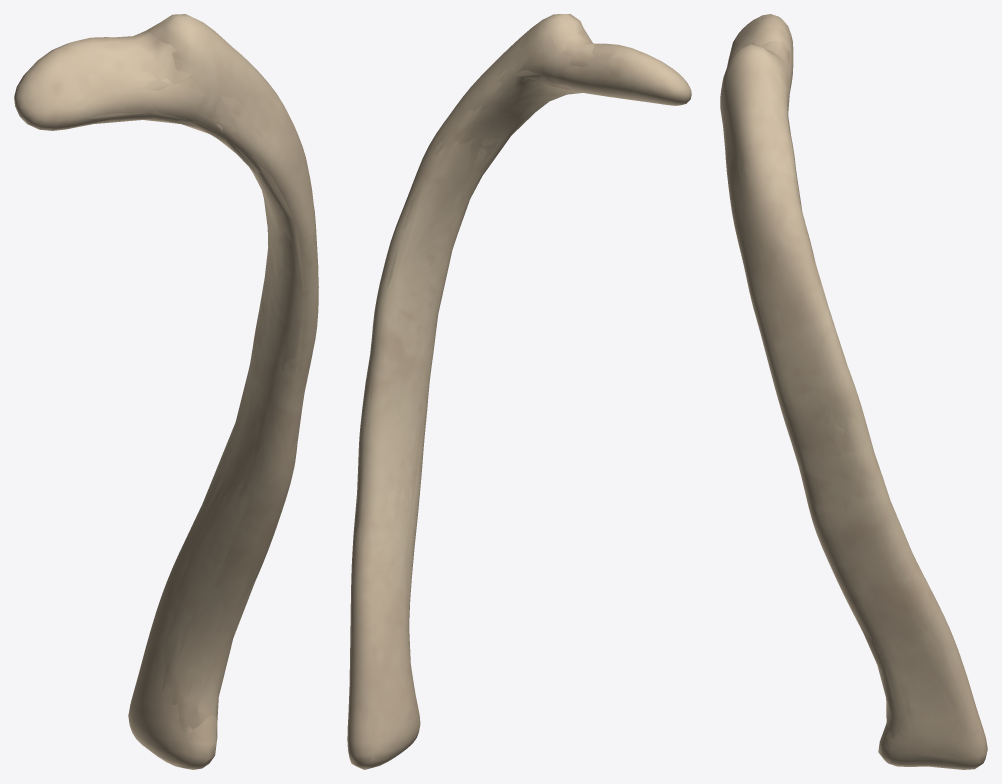
File: Rib L02.fbx
3 views of the same model, side by side, from view 1: azimuth 30°, elevation 25°; view 2: azimuth 150°, elevation 25°; view 3: azimuth 270°, elevation 25° (orthographic). The views are drawn at different scales.
Visible parts, largest first — view 1: Rib L02 high, Rib L02, Rib L02 low; view 2: Rib L02 high, Rib L02, Rib L02 low; view 3: Rib L02 high, Rib L02, Rib L02 low.
Boxes of the visible parts, x1,y1,x2,y2 form: Rib L02 high: [14, 14, 318, 768]; Rib L02: [14, 14, 318, 769]; Rib L02 low: [89, 30, 305, 732]; Rib L02 high: [347, 14, 690, 768]; Rib L02: [348, 14, 691, 769]; Rib L02 low: [356, 28, 594, 689]; Rib L02 high: [720, 14, 986, 768]; Rib L02: [720, 14, 987, 769]; Rib L02 low: [722, 41, 967, 765].
Size of the model in its own units: 6.53 by 16.04 by 5.71.
Materials: 1 (1 with a texture image).
